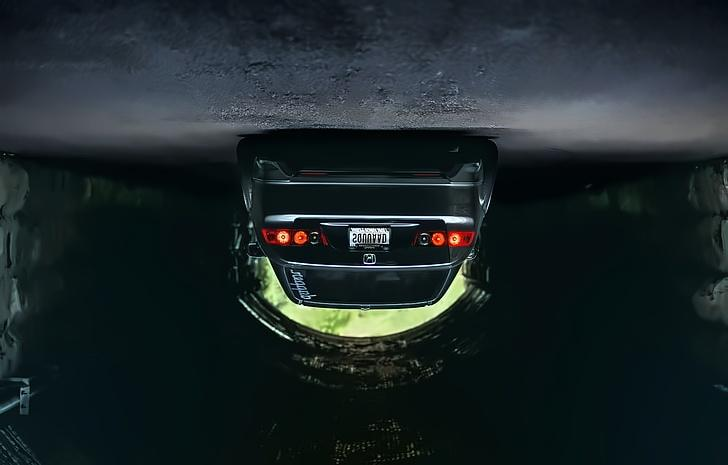Car boot: (288, 216, 450, 268)
Rear bumper: (245, 144, 493, 223)
Rear light - -L-: (408, 224, 479, 249)
Rear light - -R-: (257, 222, 331, 249)
